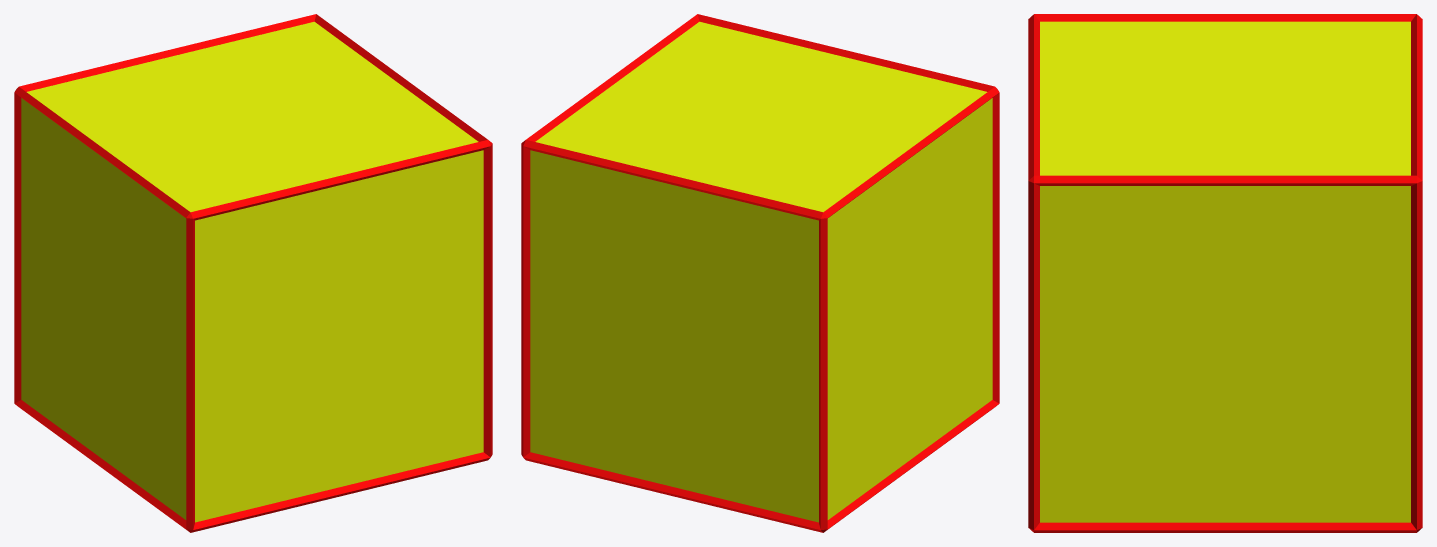
Rendered from cubo_caras.glb.
The picture shows the model from 3 angles, left to right: view 1: azimuth 30°, elevation 25°; view 2: azimuth 150°, elevation 25°; view 3: azimuth 270°, elevation 25°; orthographic projection. The views are drawn at different scales.
Visible parts, largest first — view 1: caras, cubo; view 2: caras, cubo; view 3: caras, cubo.
Part boxes in pixels (bbox=[...]): caras: bbox=[21, 21, 483, 522]; cubo: bbox=[14, 14, 492, 532]; caras: bbox=[530, 21, 992, 522]; cubo: bbox=[521, 14, 999, 532]; caras: bbox=[1040, 21, 1410, 522]; cubo: bbox=[1028, 14, 1422, 532].
Size of the model in its own units: 0.5232 by 0.5232 by 0.5232.
